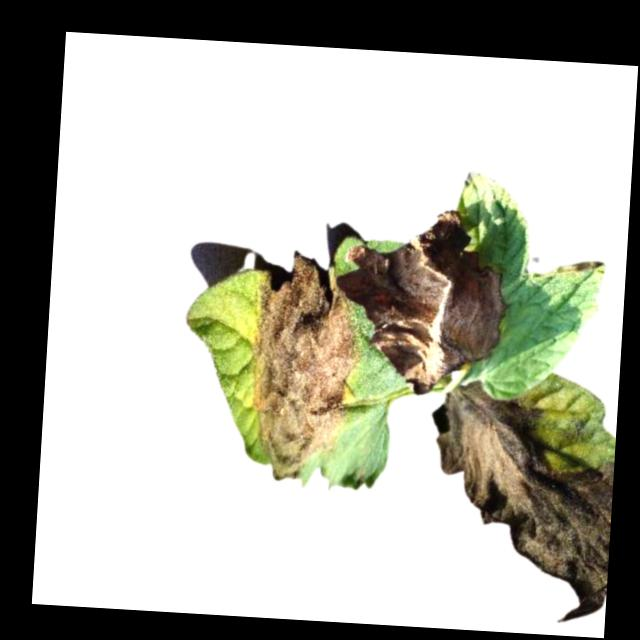Late_blight: (427, 381, 616, 624), (337, 208, 509, 400), (243, 249, 368, 486)
